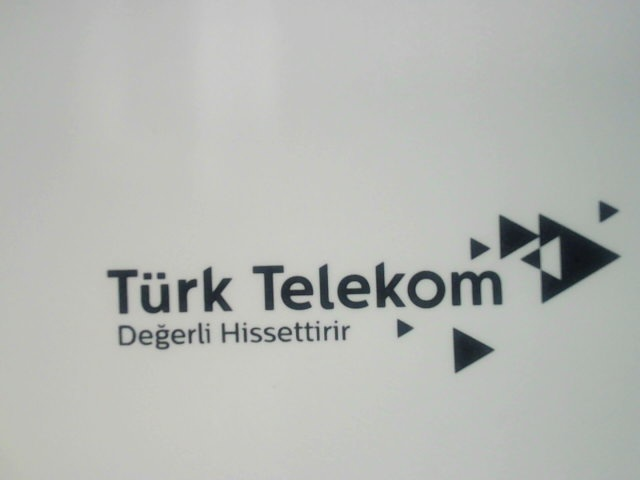AQ_TURKTelekom: (97, 191, 624, 373)
